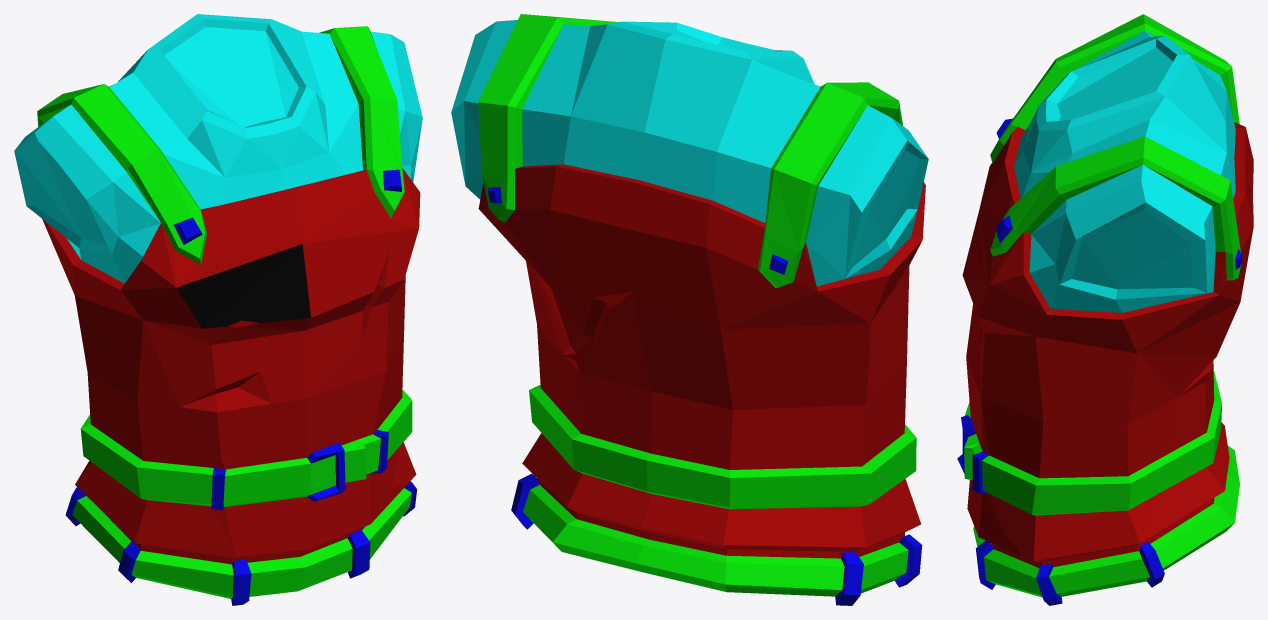
File: Chr_Torso_Male_Static_17.fbx
3 views of the same model, side by side, from view 1: azimuth 30°, elevation 25°; view 2: azimuth 150°, elevation 25°; view 3: azimuth 270°, elevation 25° (orthographic). The views are drawn at different scales.
Visible parts, largest first — view 1: Chr_Torso_Male_17; view 2: Chr_Torso_Male_17; view 3: Chr_Torso_Male_17.
Part boxes in pixels (box(x1,y1,x2,y2)): Chr_Torso_Male_17: box(14, 14, 422, 605); Chr_Torso_Male_17: box(451, 14, 928, 605); Chr_Torso_Male_17: box(957, 14, 1253, 605).
Size of the model in its own units: 50.2 by 65.5 by 34.87.
